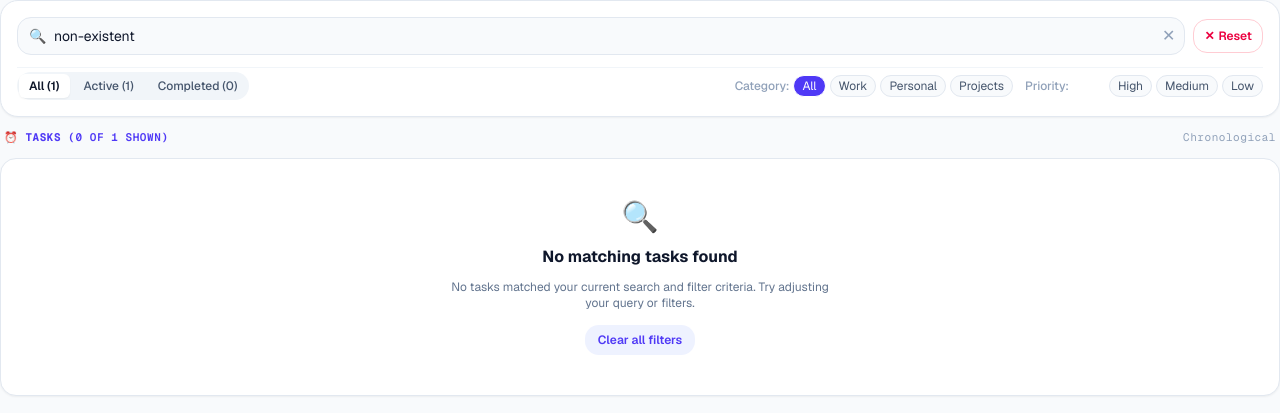
TaskListComponent › should render contextual no-matches empty state when filters yield zero results and allow reset
Expected: the element with test id "no-matches-state" is shown, [0,158,1279,396]
Expected: the element with test id "no-matches-state" shows "No matching tasks found", [542,246,738,266]
Click the button "Clear all filters" at (640, 340), box [585,324,695,354]
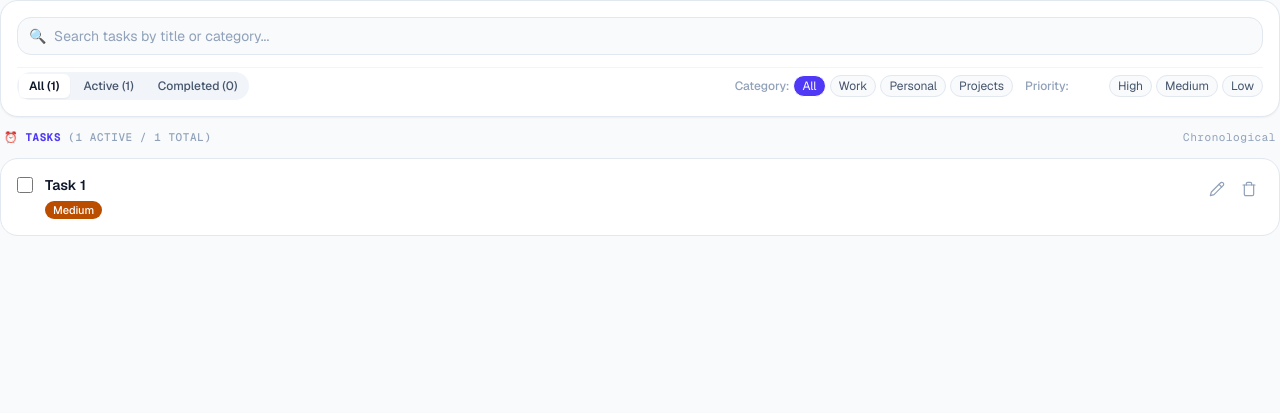
Now the element with test id "no-matches-state" is gone
